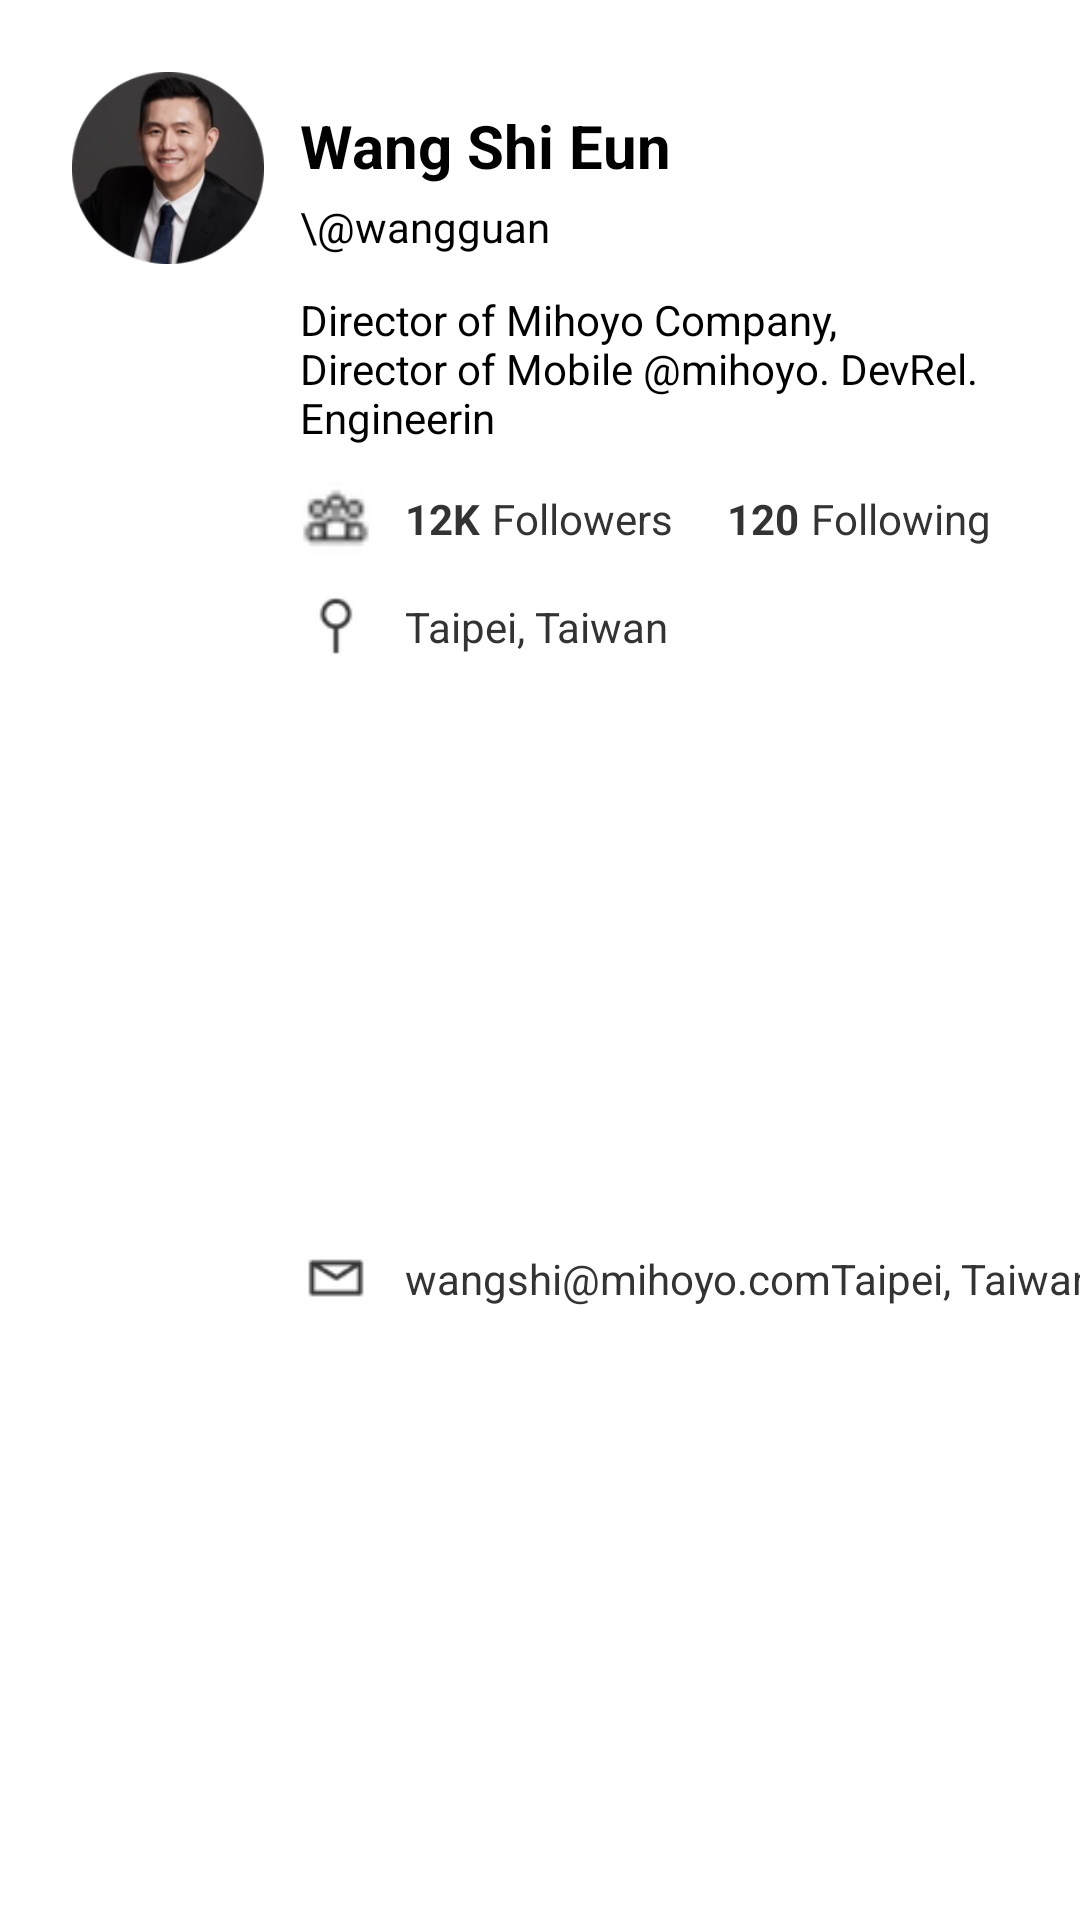

Point at icon controls on the screen. Image size 1080x1920, points as (x,y).
email: (336,1278)
following: (336,518)
